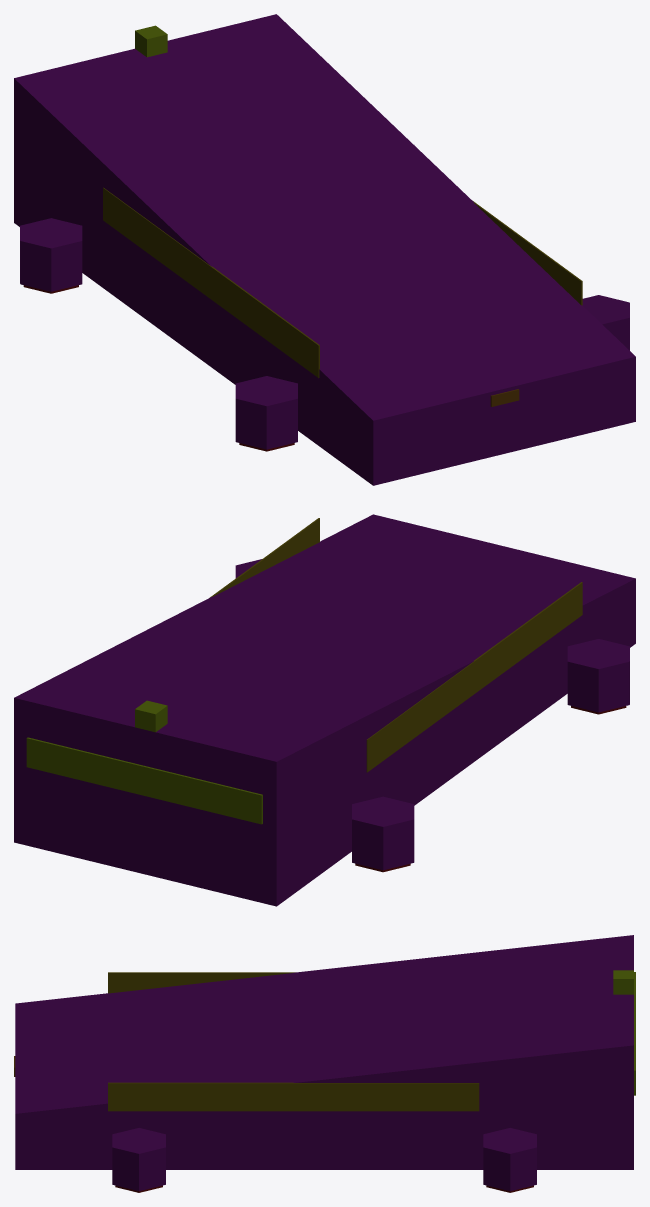
File: flyer_b.glb
3 renders of one model, top to bottom at view 1: azimuth 30°, elevation 25°; view 2: azimuth 150°, elevation 25°; view 3: azimuth 270°, elevation 25°, orthographic. The views are drawn at different scales.
Parts seen in each view (by area): view 1: flyer_b; view 2: flyer_b; view 3: flyer_b.
Boxes of the visible parts, <box> form: flyer_b: <box>14,14,635,485</box>; flyer_b: <box>14,514,635,906</box>; flyer_b: <box>14,935,635,1192</box>.
Size of the model in its own units: 5.7 by 2.25 by 9.05.
